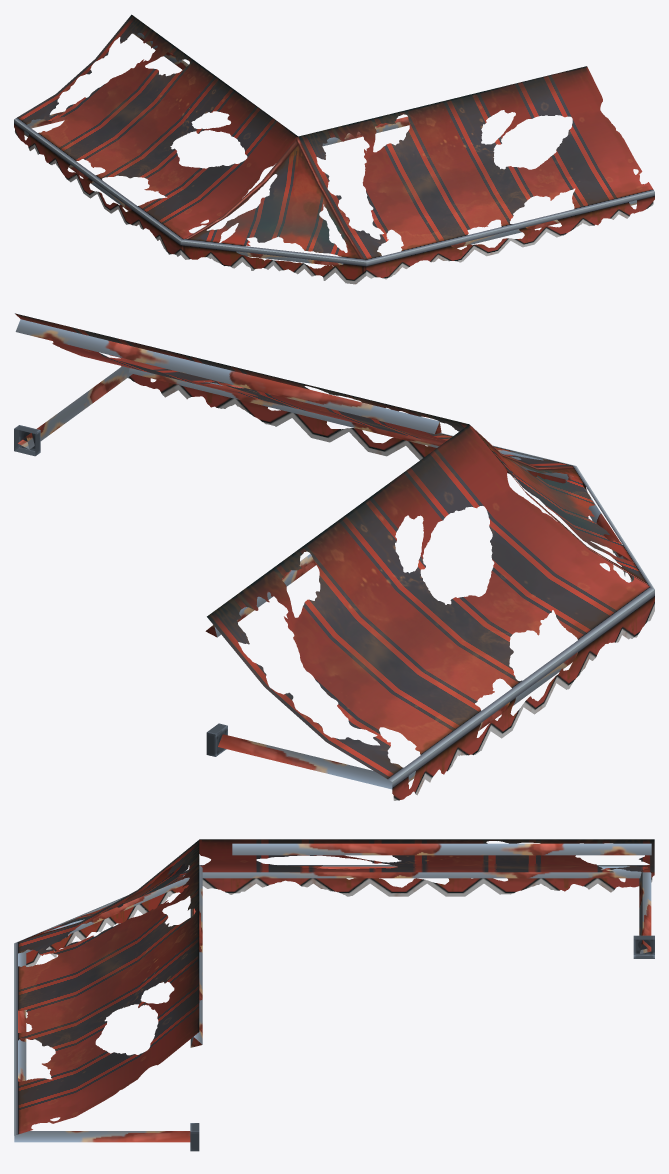
Rendered from awning03_corner.fbx.
3 renders of one model, top to bottom at view 1: azimuth 30°, elevation 25°; view 2: azimuth 150°, elevation 25°; view 3: azimuth 270°, elevation 25°, orthographic. The views are drawn at different scales.
Visible parts, largest first — view 1: awning03_corner; view 2: awning03_corner; view 3: awning03_corner.
Part boxes in pixels (x1,y1,x2,y2): awning03_corner: (14,14,654,284); awning03_corner: (14,313,654,800); awning03_corner: (14,839,654,1151).
Size of the model in its own units: 452 by 105 by 449.
